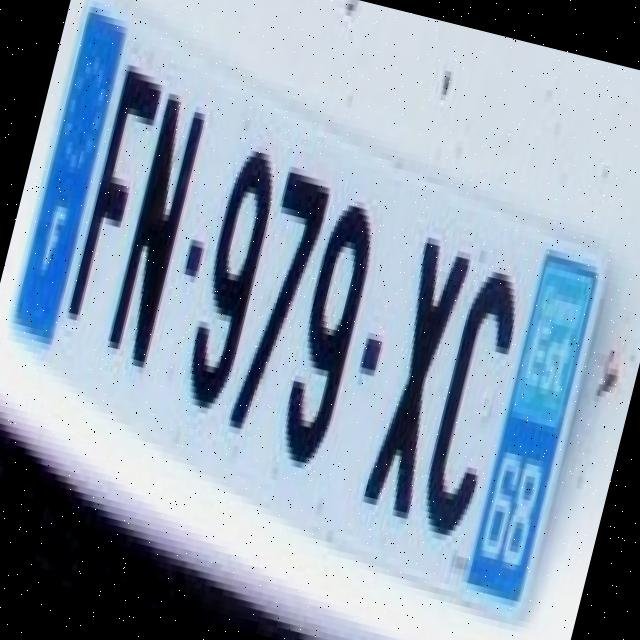EU: (14, 1, 608, 631)
France: (13, 1, 133, 351)
